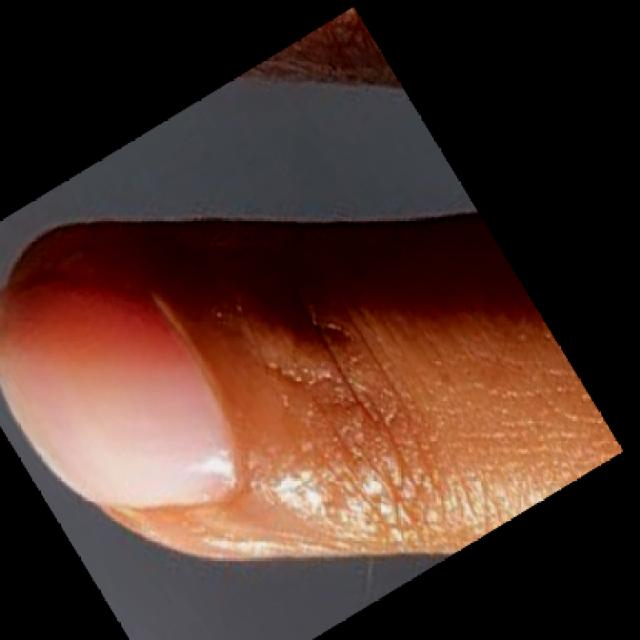Nail: (1, 279, 235, 507)
